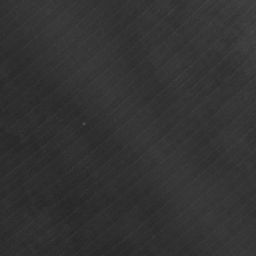Target: (80, 121, 86, 127)
